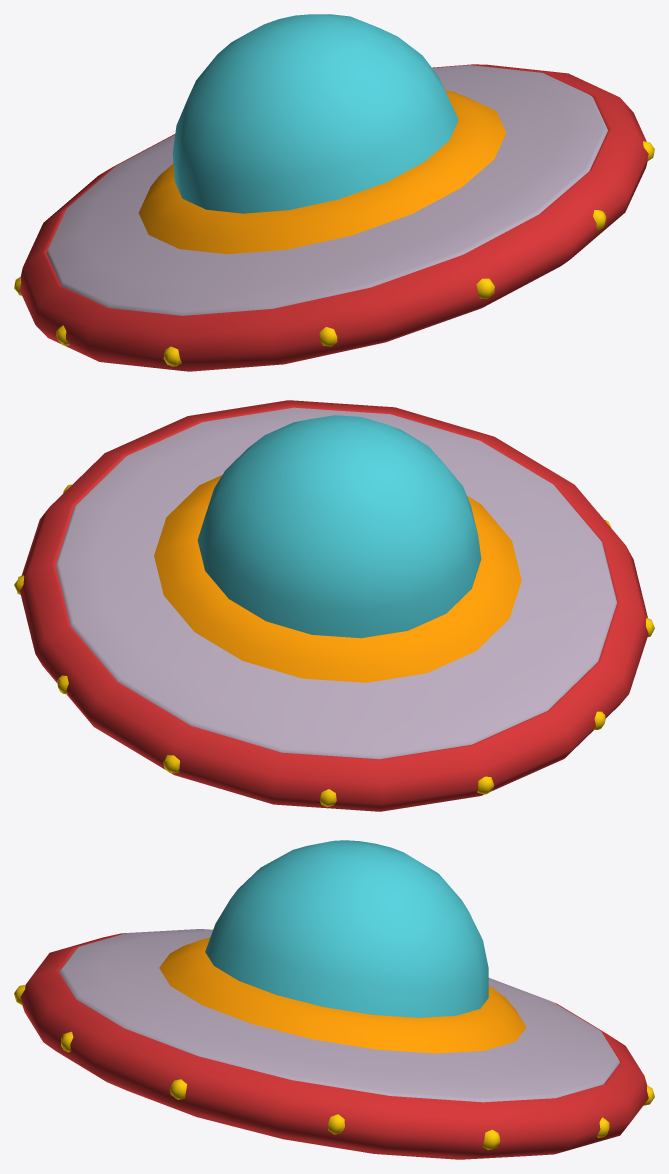
File: Hat_11_01.fbx
3 views of the same model, one above another, from view 1: azimuth 30°, elevation 25°; view 2: azimuth 150°, elevation 25°; view 3: azimuth 270°, elevation 25° (orthographic). The views are drawn at different scales.
Visible parts, largest first — view 1: Hat_11_01; view 2: Hat_11_01; view 3: Hat_11_01.
Boxes of the visible parts, bbox=[...] form: Hat_11_01: bbox=[14, 14, 654, 371]; Hat_11_01: bbox=[14, 400, 654, 811]; Hat_11_01: bbox=[14, 840, 654, 1159].
Size of the model in its own units: 78.25 by 37.82 by 79.6.
